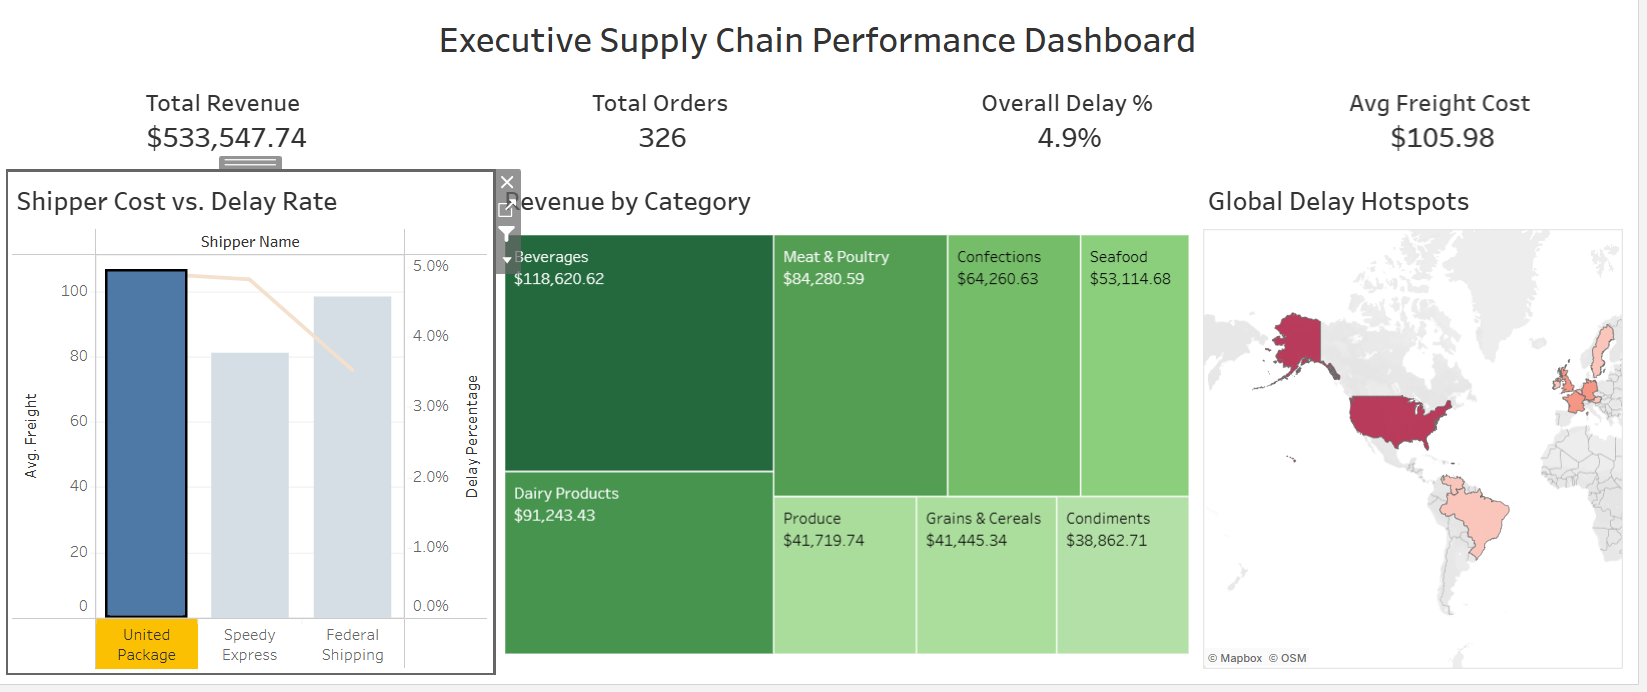

Layout of this report page (visuals, bound fields, positions):
{"tool":"tableau","page":{"name":"Final Dashboard","canvas":[1000,1000],"units":"permille","ordinal":0},"visuals":[{"type":"title","box":[6.1,14.6,987.8,84.1]},{"type":"worksheet","title":"KPI - Revenue","mark":"Automatic","box":[6.1,98.7,266.4,149.9]},{"type":"worksheet","title":"KPI - Orders","mark":"Automatic","box":[272.5,98.7,266.5,149.9]},{"type":"worksheet","title":"KPI - Delay Rate","mark":"Automatic","box":[539.1,98.7,227.7,149.9]},{"type":"worksheet","title":"KPI - Freight","mark":"Automatic","box":[766.8,98.7,227.1,149.9]},{"type":"worksheet","title":"Chart - Shipper","mark":"Automatic","rows":["freight","Calculation_0014625329938445"],"cols":["shipperName"],"box":[6.1,248.6,297,736.8]},{"type":"worksheet","title":"Chart - Treemap","mark":"Square","box":[303.1,248.6,428.8,736.8]},{"type":"worksheet","title":"Chart - Map","mark":"Multipolygon","box":[731.9,248.6,262,736.8]}]}

Visuals, with their boxes on the dashboard's canvas, which has no fixed pixel size, in thousandths of its width and height (x1, y1, x2, y2). These are canvas units, not pixel positions in the 1647x692 screenshot, which may show the page scaled, cropped or inside an application window:
title: 6, 15, 994, 99
"KPI - Revenue" worksheet: 6, 99, 272, 249
"KPI - Orders" worksheet: 272, 99, 539, 249
"KPI - Delay Rate" worksheet: 539, 99, 767, 249
"KPI - Freight" worksheet: 767, 99, 994, 249
"Chart - Shipper" worksheet: 6, 249, 303, 985
"Chart - Treemap" worksheet (Square marks): 303, 249, 732, 985
"Chart - Map" worksheet (Multipolygon marks): 732, 249, 994, 985
